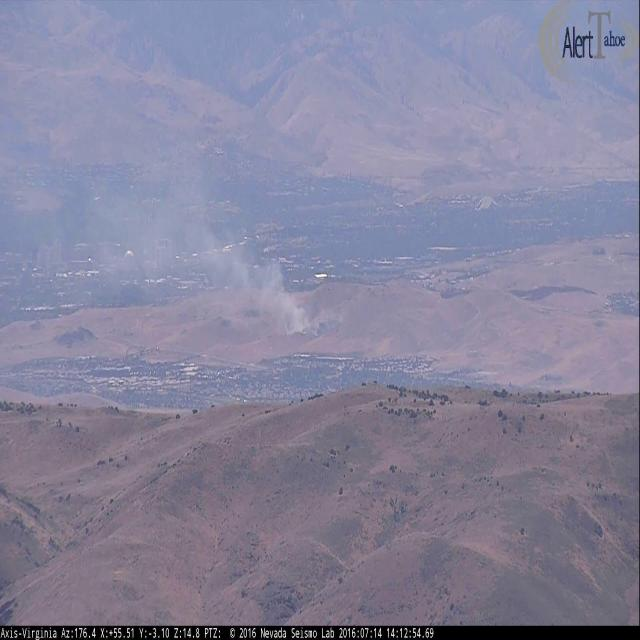smoke: (87, 132, 311, 342)
